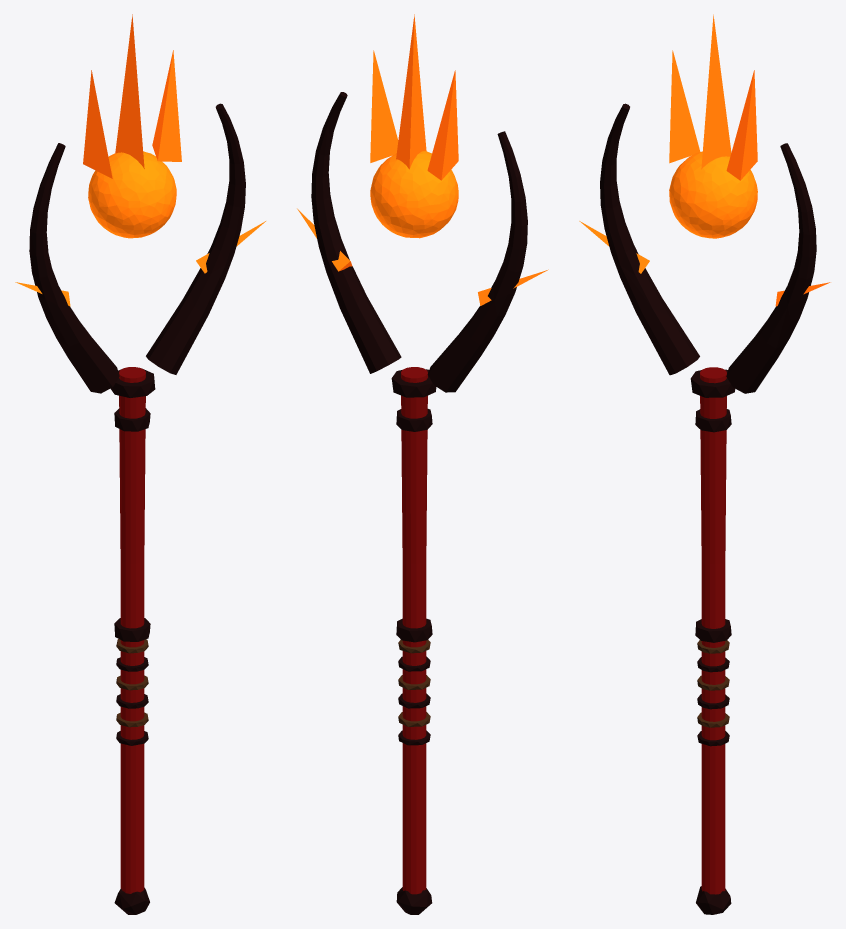
Rendered from staff_4.glb.
3 views of the same model, side by side, from view 1: azimuth 30°, elevation 25°; view 2: azimuth 150°, elevation 25°; view 3: azimuth 330°, elevation 25° (orthographic).
Visible parts, largest first — view 1: part_01, part_14, part_12, part_16, part_17, part_19, part_18, part_09, part_08, part_11, part_10; view 2: part_01, part_14, part_12, part_16, part_17, part_19, part_18, part_09, part_08, part_11, part_10; view 3: part_01, part_12, part_14, part_16, part_17, part_18, part_19, part_09, part_08, part_11, part_10.
Boxes of the visible parts, x1,y1,x2,y2 form: part_01: (119,367,145,893); part_14: (146,103,245,374); part_12: (29,143,119,393); part_16: (88,151,176,238); part_17: (115,14,144,168); part_19: (152,50,181,161); part_18: (83,70,112,178); part_09: (110,368,155,397); part_08: (114,887,149,914); part_11: (114,618,150,641); part_10: (114,408,150,431); part_01: (401,367,427,894); part_14: (311,92,401,373); part_12: (427,131,527,392); part_16: (370,151,458,238); part_17: (396,14,426,169); part_19: (370,50,398,162); part_18: (427,70,458,180); part_09: (391,369,436,397); part_08: (396,887,432,914); part_11: (396,618,432,642); part_10: (396,409,432,431); part_01: (700,367,726,894); part_12: (600,103,699,375); part_14: (726,143,816,393); part_16: (669,151,757,238); part_17: (701,14,731,169); part_18: (669,50,700,163); part_19: (726,70,757,180); part_09: (690,369,735,397); part_08: (696,886,731,914); part_11: (695,619,731,642); part_10: (695,409,731,432).
Bounding box in the file's own units: 0.5161 × 1.75 × 0.1566.
